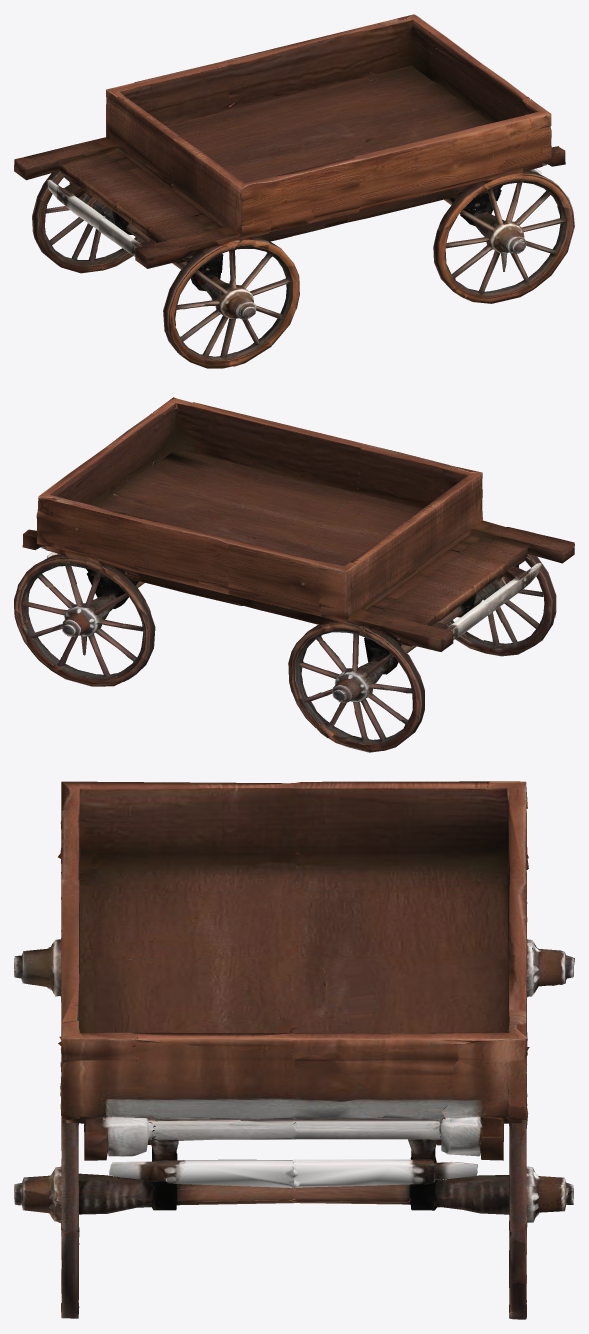
File: hand-cart.glb
3 renders of one model, top to bottom at view 1: azimuth 30°, elevation 25°; view 2: azimuth 150°, elevation 25°; view 3: azimuth 270°, elevation 25°, orthographic. The views are drawn at different scales.
Visible parts, largest first — view 1: hand-cart; view 2: hand-cart; view 3: hand-cart.
Boxes of the visible parts, box(x1,y1,x2,y2) form: hand-cart: box(14, 14, 574, 368); hand-cart: box(14, 397, 574, 752); hand-cart: box(14, 781, 574, 1319).
Size of the model in its own units: 2.4 by 0.9515 by 1.6.
1 material, 1 textured.
